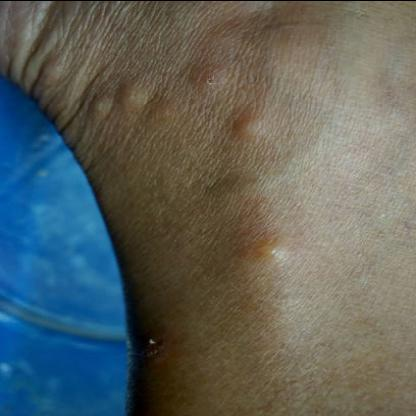Bed Bug: (86, 79, 156, 127), (238, 232, 298, 270), (226, 104, 272, 142), (186, 61, 232, 89)
